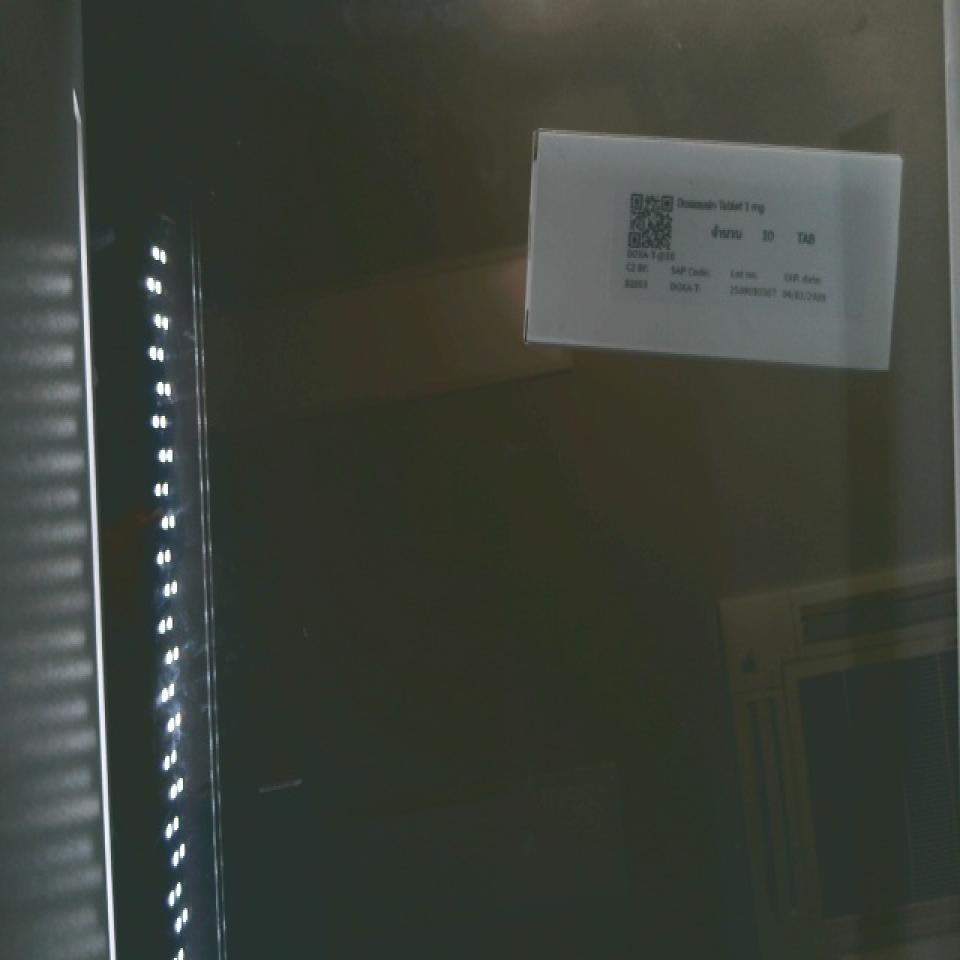medicine_box: (522, 127, 902, 367)
qr_code: (612, 176, 685, 271)
